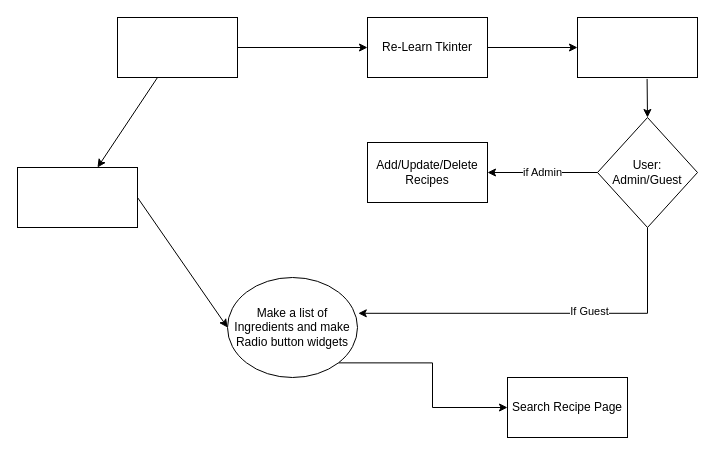
Image size: 715x455. Some labels were removed from this diagram. Each missing label, with the centre of its shape:
"Create Login Page" goes at pixel 637 47.
"Get a list of all ingredients to include in program" goes at pixel 77 197.
"Start project" goes at pixel 177 47.
